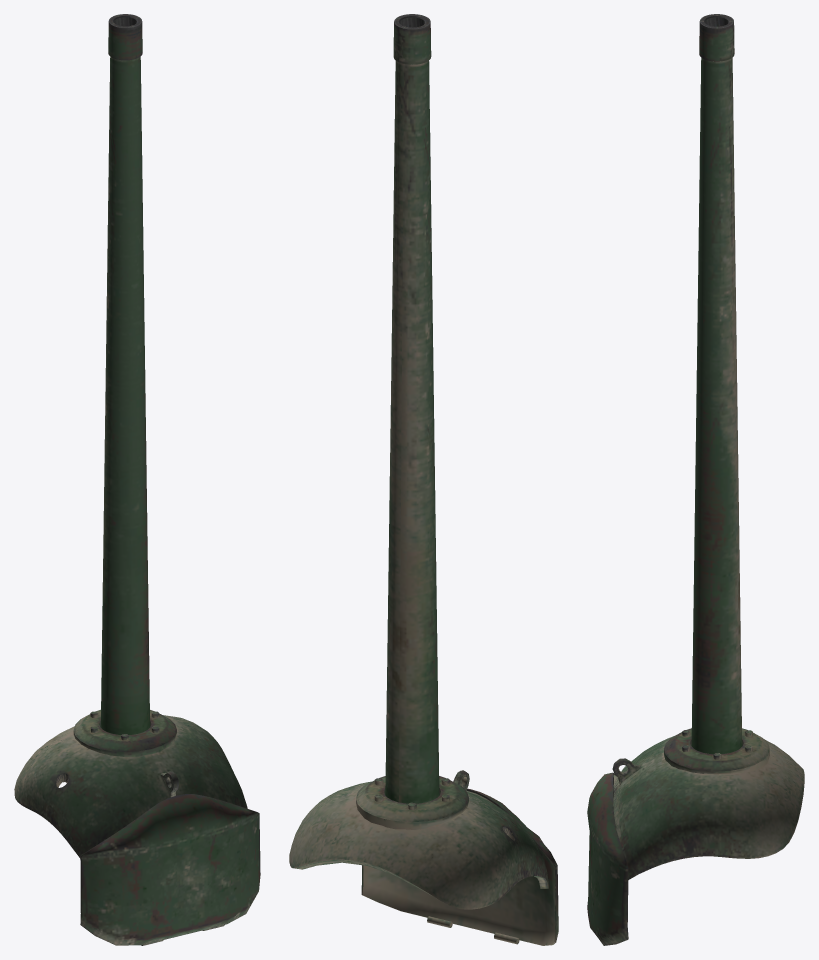
The model's file is Gun_01.glb.
3 renders of one model, left to right at view 1: azimuth 30°, elevation 25°; view 2: azimuth 150°, elevation 25°; view 3: azimuth 270°, elevation 25°, orthographic. The views are drawn at different scales.
Parts seen in each view (by area): view 1: set_0_group_0; view 2: set_0_group_0; view 3: set_0_group_0.
Part boxes in pixels (<box>): set_0_group_0: <box>14,14,260,945</box>; set_0_group_0: <box>289,14,558,945</box>; set_0_group_0: <box>587,14,804,945</box>.
Bounding box in the file's own units: 0.8012 × 3.58 × 0.7867.
1 material, 1 textured.
